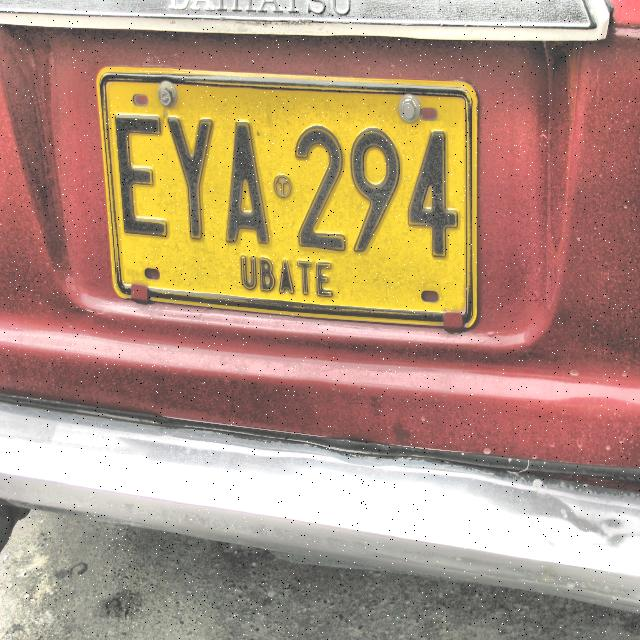2: (290, 117, 346, 256)
4: (401, 122, 462, 268)
9: (348, 121, 405, 259)
A: (218, 118, 276, 248)
E: (110, 111, 169, 245)
Y: (166, 113, 217, 246)
